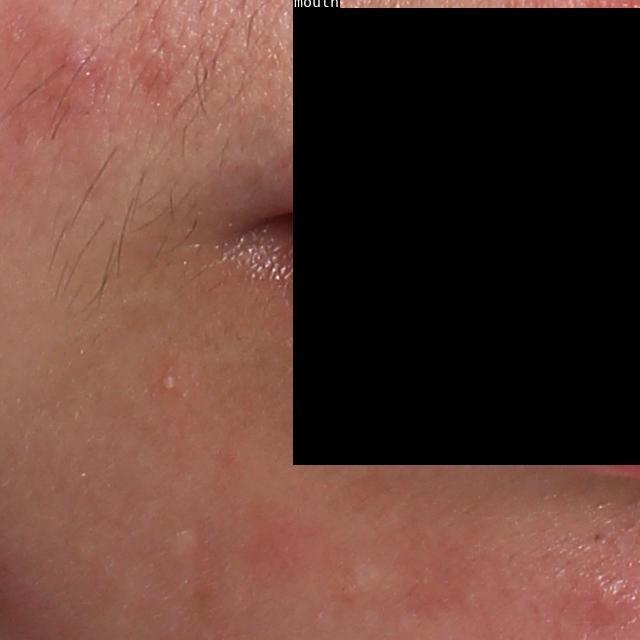hypertrophic_scar: (164, 522, 203, 579), (343, 556, 393, 597)
